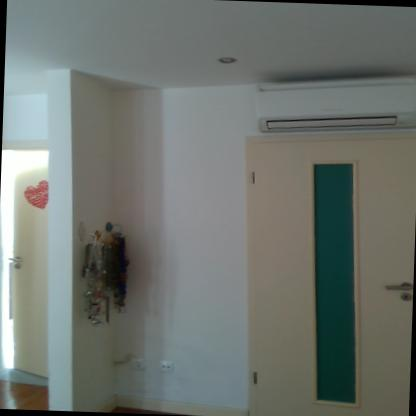closed: (229, 128, 415, 415)
